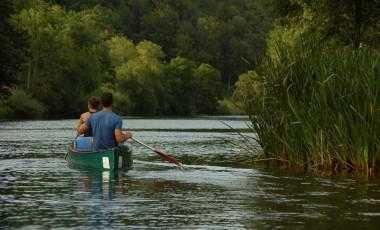kayak: (67, 140, 133, 171)
